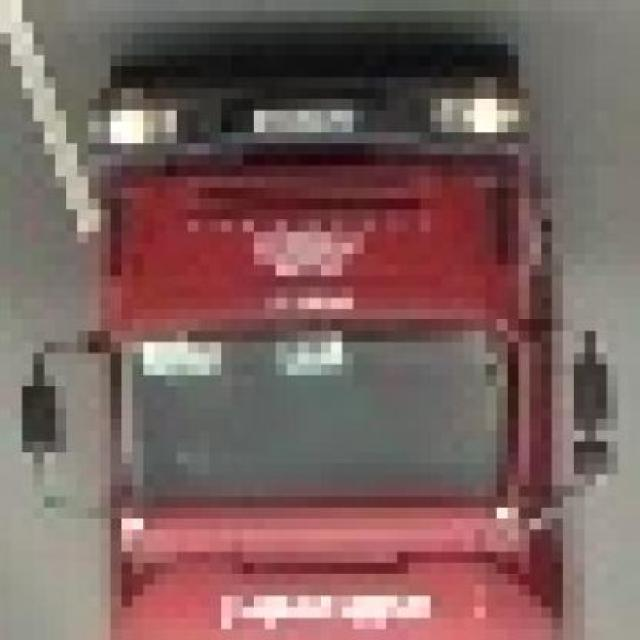truck: (1, 57, 596, 640)
